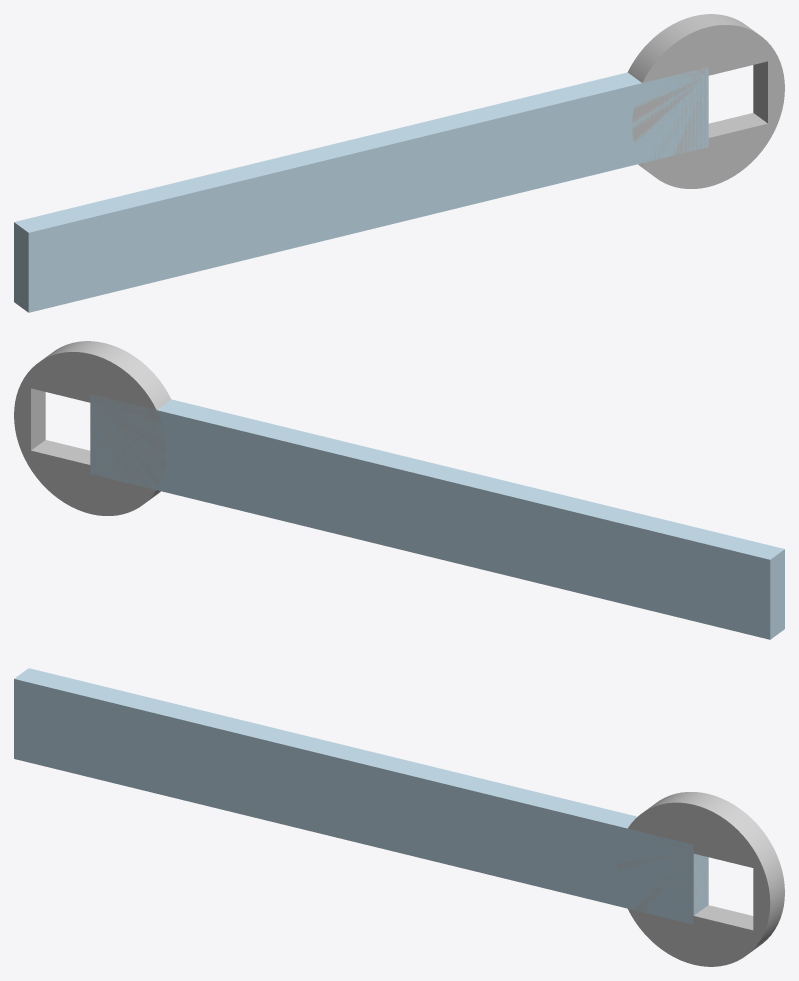
3 views of the same model, one above another, from view 1: azimuth 30°, elevation 25°; view 2: azimuth 150°, elevation 25°; view 3: azimuth 330°, elevation 25° (orthographic).
Parts seen in each view (by area): view 1: Part 1, Part 2; view 2: Part 1, Part 2; view 3: Part 1, Part 2.
Boxes of the visible parts, left/top/right/bottom form: Part 1: left=14, top=67, right=708, bottom=312; Part 2: left=627, top=14, right=784, bottom=188; Part 1: left=90, top=394, right=784, bottom=639; Part 2: left=14, top=341, right=171, bottom=515; Part 1: left=14, top=668, right=708, bottom=924; Part 2: left=617, top=792, right=784, bottom=966.
Size of the model in its own units: 0.178 by 0.036 by 0.006.
